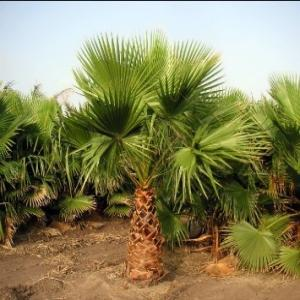palm tree: (57, 28, 271, 285)
